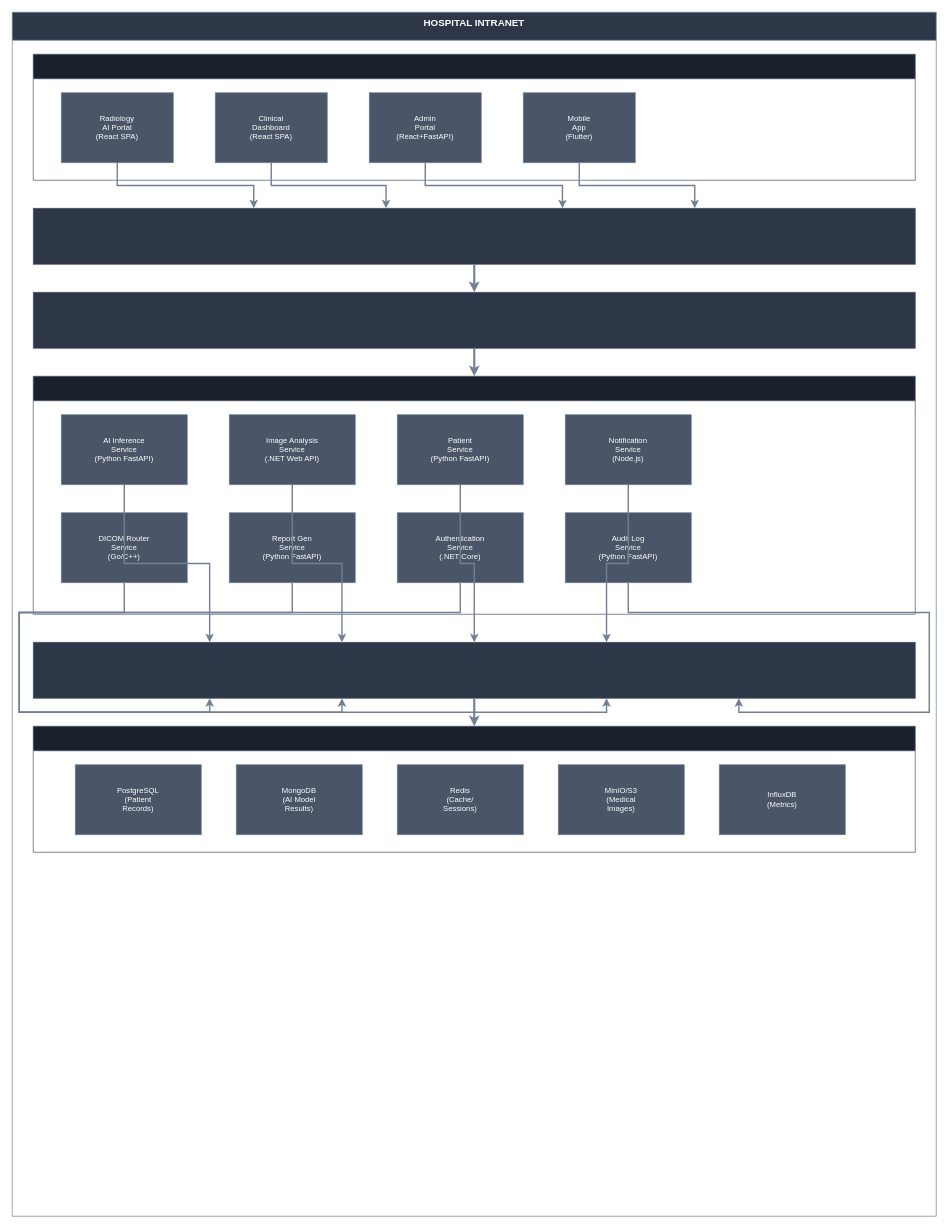
Some shapes in this 949 by 1229 pixel diagram are drawn without their labels. Here are the shapes that lost their labels. From the top down, the box of each, then its label:
(33, 54, 915, 180): PRESENTATION LAYER
(33, 208, 915, 264): NGINX REVERSE PROXY / API GATEWAY (Load Balancing, SSL Termination, Routing)
(33, 292, 915, 348): SERVICE MESH (Istio/Linkerd) (Service Discovery, Circuit Breaker, mTLS)
(33, 376, 915, 614): MICROSERVICES LAYER
(33, 642, 915, 698): MESSAGE BROKER (RabbitMQ/Kafka) (Async Communication, Event Streaming)
(33, 726, 915, 852): DATA LAYER
